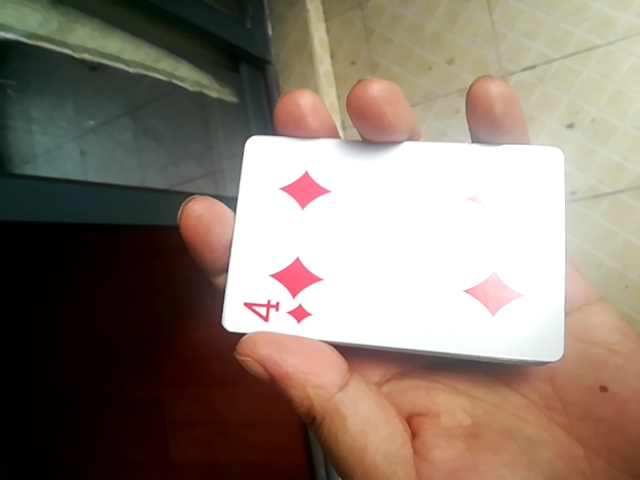fk 4: (220, 137, 566, 355)
